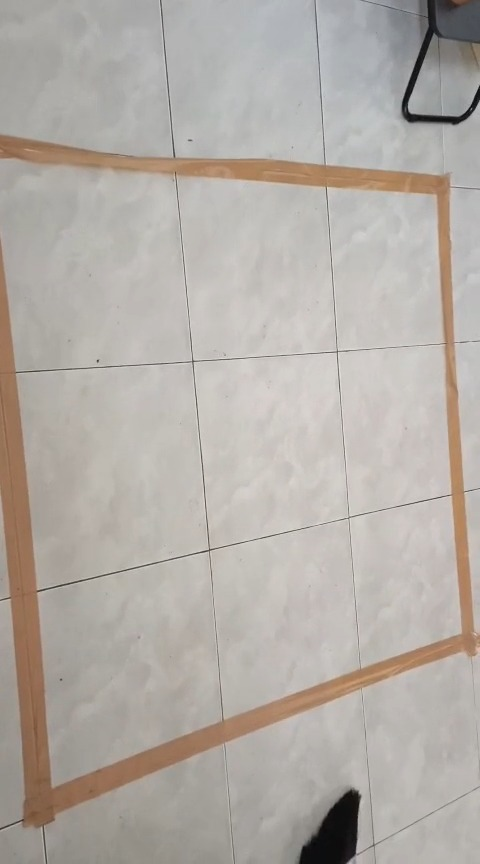floor marking: (0, 135, 479, 826)
